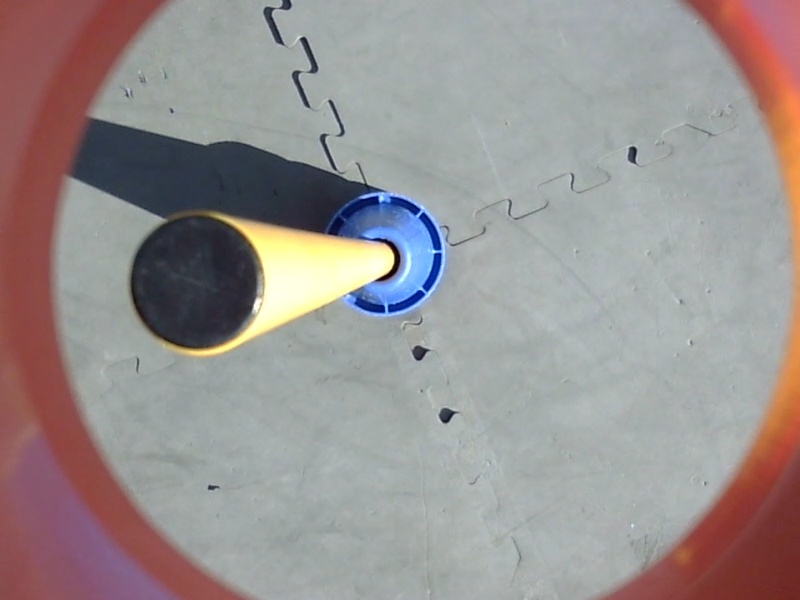tip: (121, 206, 268, 359)
